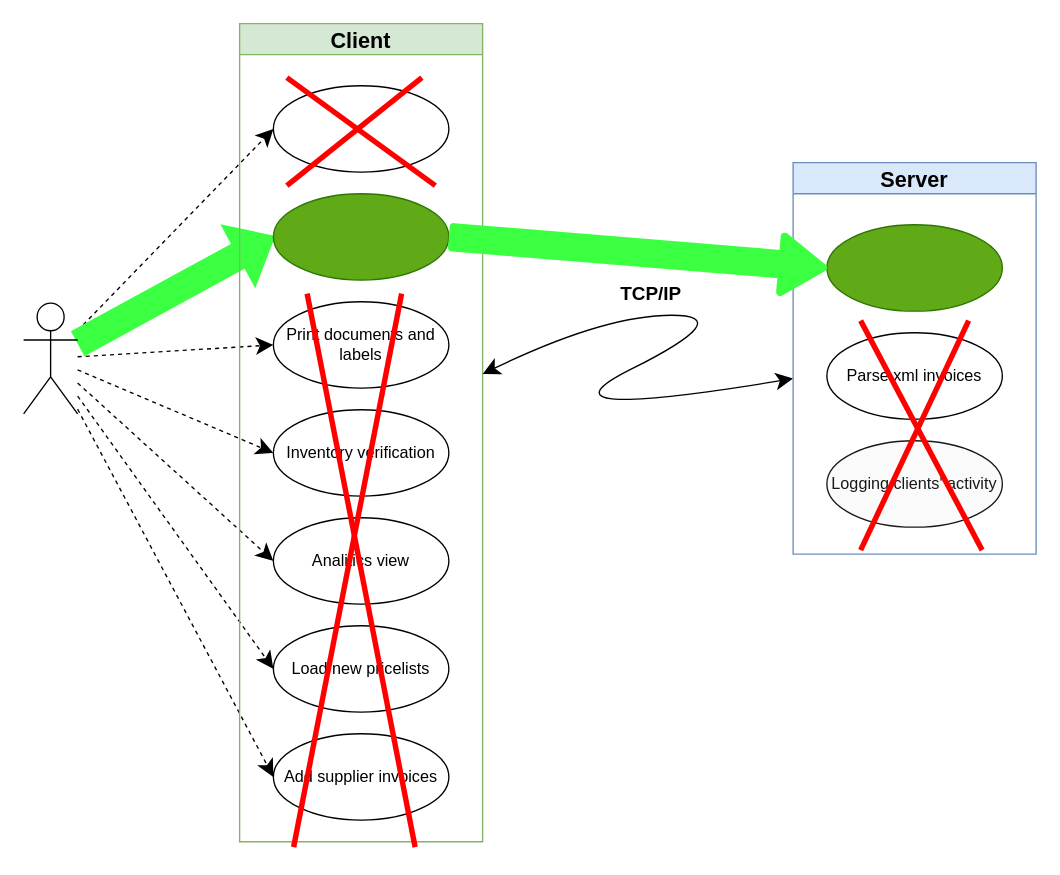
This 1060x875 diagram has some shape labels left out. The shapes that lost their labels are listed below. From the top down, each one's centre as x and y in pixels, then its label:
the point at 360,128: Authorization and registration
the point at 360,236: Add, edit and delete documents
the point at 914,267: Work with database
the point at 50,358: User
